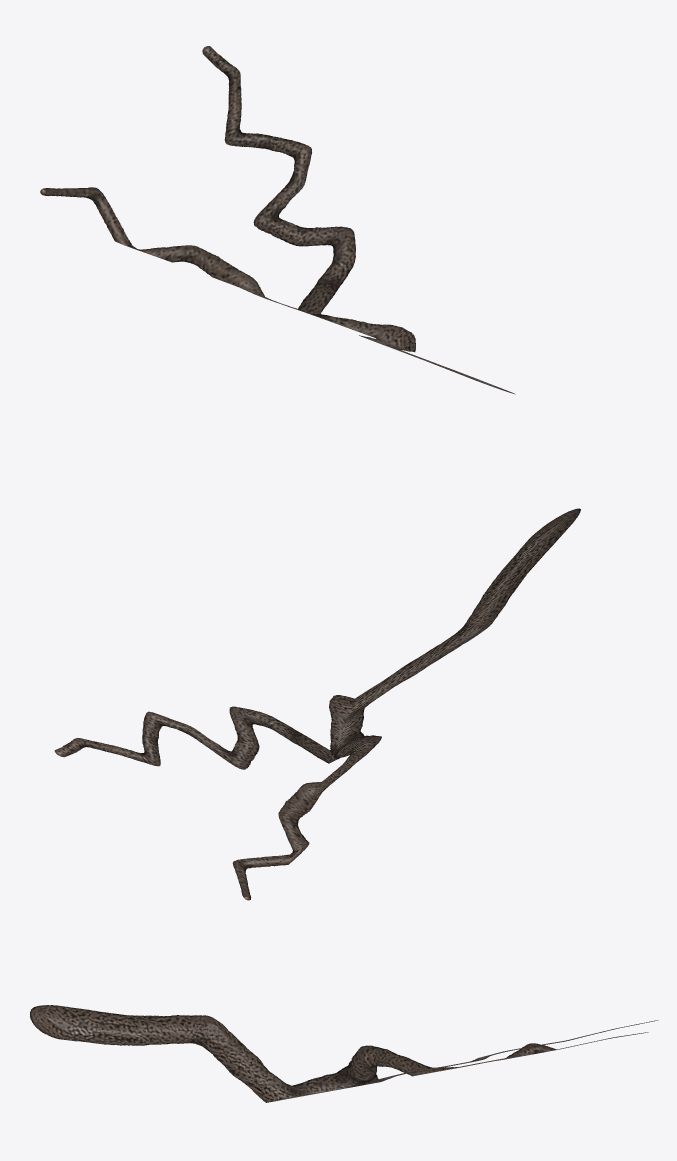
3 renders of one model, top to bottom at view 1: azimuth 30°, elevation 25°; view 2: azimuth 150°, elevation 25°; view 3: azimuth 270°, elevation 25°, orthographic. The views are drawn at different scales.
Parts seen in each view (by area): view 1: WRoot_06; view 2: WRoot_06; view 3: WRoot_06.
Part boxes in pixels (box(x1,y1,x2,y2)): WRoot_06: box(40, 46, 515, 394); WRoot_06: box(54, 508, 580, 900); WRoot_06: box(30, 1005, 658, 1102).
Size of the model in its own units: 1.36 by 0.7406 by 3.67.
